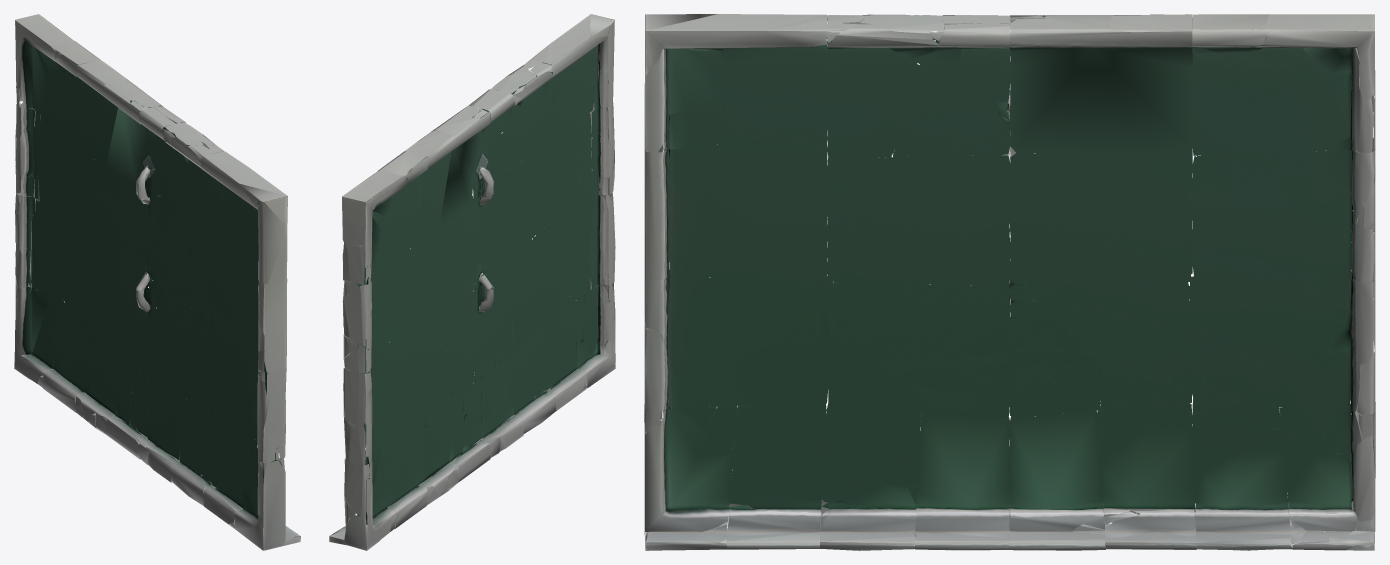
Rendered from boardModel.fbx.
3 renders of one model, left to right at view 1: azimuth 30°, elevation 25°; view 2: azimuth 150°, elevation 25°; view 3: azimuth 270°, elevation 25°, orthographic. The views are drawn at different scales.
Parts seen in each view (by area): view 1: tripo_node_0cee9b03-f8b8-422d-9e7c-d269625df369; view 2: tripo_node_0cee9b03-f8b8-422d-9e7c-d269625df369; view 3: tripo_node_0cee9b03-f8b8-422d-9e7c-d269625df369.
Part boxes in pixels (x1,y1,x2,y2): tripo_node_0cee9b03-f8b8-422d-9e7c-d269625df369: [14, 14, 300, 550]; tripo_node_0cee9b03-f8b8-422d-9e7c-d269625df369: [329, 14, 615, 550]; tripo_node_0cee9b03-f8b8-422d-9e7c-d269625df369: [644, 14, 1375, 550].
Bounding box in the file's own units: 9.13 × 75.63 × 97.93.
1 material, 1 textured.
